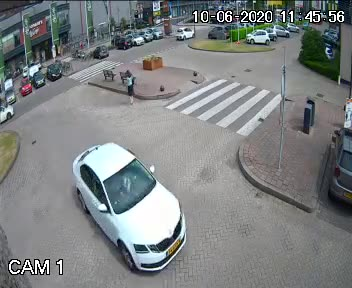car: (61, 142, 189, 268), (171, 25, 195, 43)
